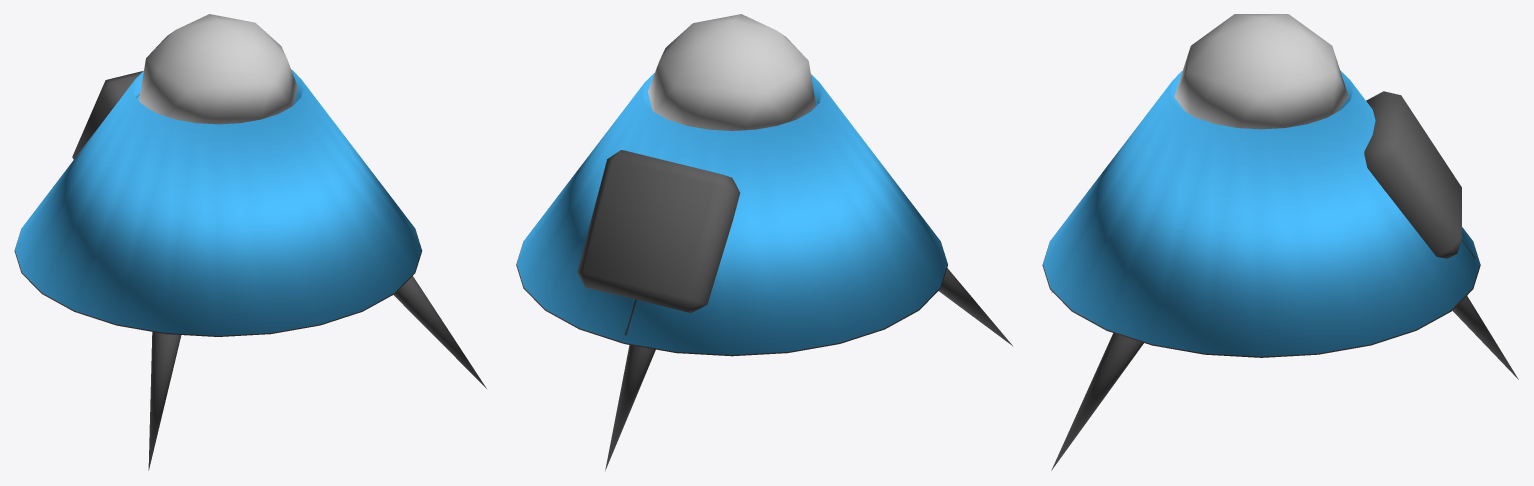
Rendered from ThePropoise.obj.
3 renders of one model, left to right at view 1: azimuth 30°, elevation 25°; view 2: azimuth 150°, elevation 25°; view 3: azimuth 270°, elevation 25°, orthographic. The views are drawn at different scales.
Parts seen in each view (by area): view 1: Cone, Icosphere; view 2: Cone, Icosphere; view 3: Cone, Icosphere.
Boxes of the visible parts, box(x1,y1,x2,y2) form: Cone: box(14, 69, 486, 470); Icosphere: box(139, 14, 297, 124); Cone: box(516, 73, 1012, 471); Icosphere: box(648, 14, 816, 130); Cone: box(1042, 70, 1518, 470); Icosphere: box(1174, 14, 1348, 129).
Bounding box in the file's own units: 2 × 1.83 × 2.18.
2 materials, 1 textured.
